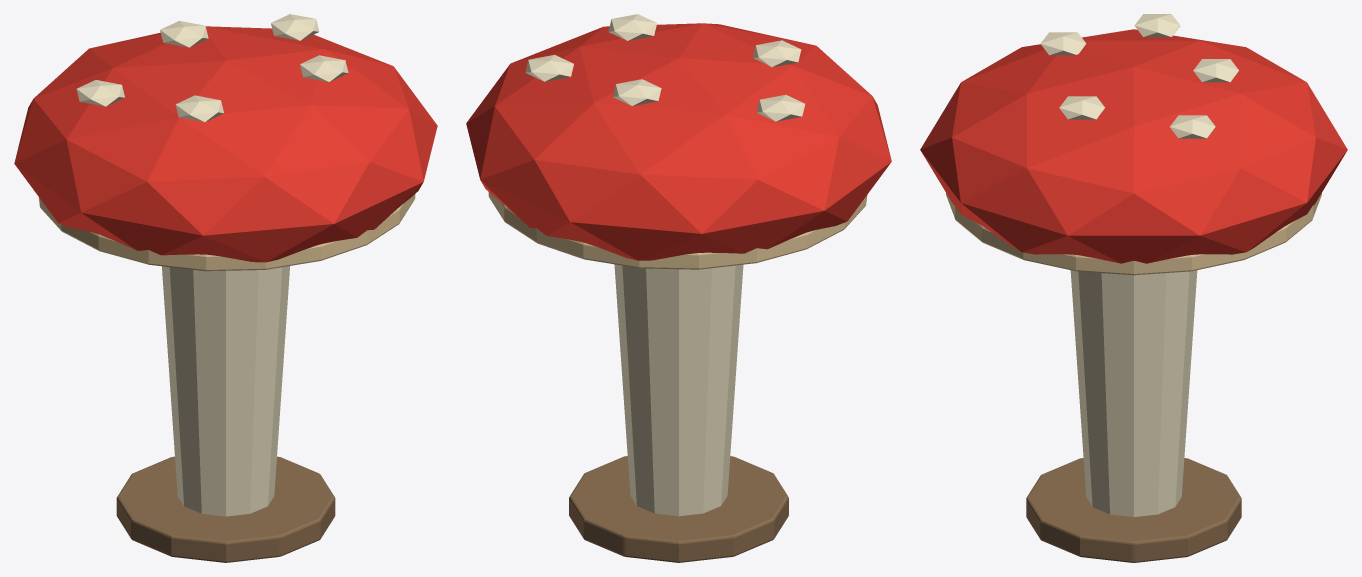
Rendered from S070_giant_mushroom.glb.
3 views of the same model, side by side, from view 1: azimuth 30°, elevation 25°; view 2: azimuth 150°, elevation 25°; view 3: azimuth 270°, elevation 25° (orthographic).
Parts seen in each view (by area): view 1: mushroom_cap, mushroom_stalk, mushroom_foot, cap_underside, cream_cap_spot.002, cream_cap_spot.001, cream_cap_spot, cream_cap_spot.004, cream_cap_spot.003; view 2: mushroom_cap, mushroom_stalk, mushroom_foot, cap_underside, cream_cap_spot.003, cream_cap_spot.001, cream_cap_spot.002, cream_cap_spot.004, cream_cap_spot; view 3: mushroom_cap, mushroom_stalk, mushroom_foot, cap_underside, cream_cap_spot.001, cream_cap_spot.002, cream_cap_spot.003, cream_cap_spot.004, cream_cap_spot.
Boxes of the visible parts, x1,y1,x2,y2 form: mushroom_cap: [14, 26, 437, 262]; mushroom_stalk: [162, 266, 289, 516]; mushroom_foot: [116, 456, 335, 562]; cap_underside: [38, 194, 415, 271]; cream_cap_spot.002: [160, 21, 208, 47]; cream_cap_spot.001: [300, 55, 348, 82]; cream_cap_spot: [175, 95, 223, 122]; cream_cap_spot.004: [271, 14, 319, 40]; cream_cap_spot.003: [76, 80, 124, 106]; mushroom_cap: [466, 23, 891, 260]; mushroom_stalk: [614, 264, 743, 516]; mushroom_foot: [569, 456, 788, 562]; cap_underside: [488, 192, 867, 269]; cream_cap_spot.003: [756, 94, 805, 121]; cream_cap_spot.001: [608, 14, 657, 40]; cream_cap_spot.002: [613, 79, 661, 105]; cream_cap_spot.004: [525, 55, 573, 81]; cream_cap_spot: [753, 40, 801, 67]; mushroom_cap: [920, 29, 1347, 263]; mushroom_stalk: [1070, 270, 1197, 516]; mushroom_foot: [1026, 458, 1241, 562]; cap_underside: [946, 193, 1321, 275]; cream_cap_spot.001: [1059, 96, 1104, 119]; cream_cap_spot.002: [1193, 59, 1239, 82]; cream_cap_spot.003: [1134, 14, 1180, 37]; cream_cap_spot.004: [1170, 115, 1215, 138]; cream_cap_spot: [1040, 32, 1086, 55].
Bounding box in the file's own units: 1.73 × 2.14 × 1.82.
